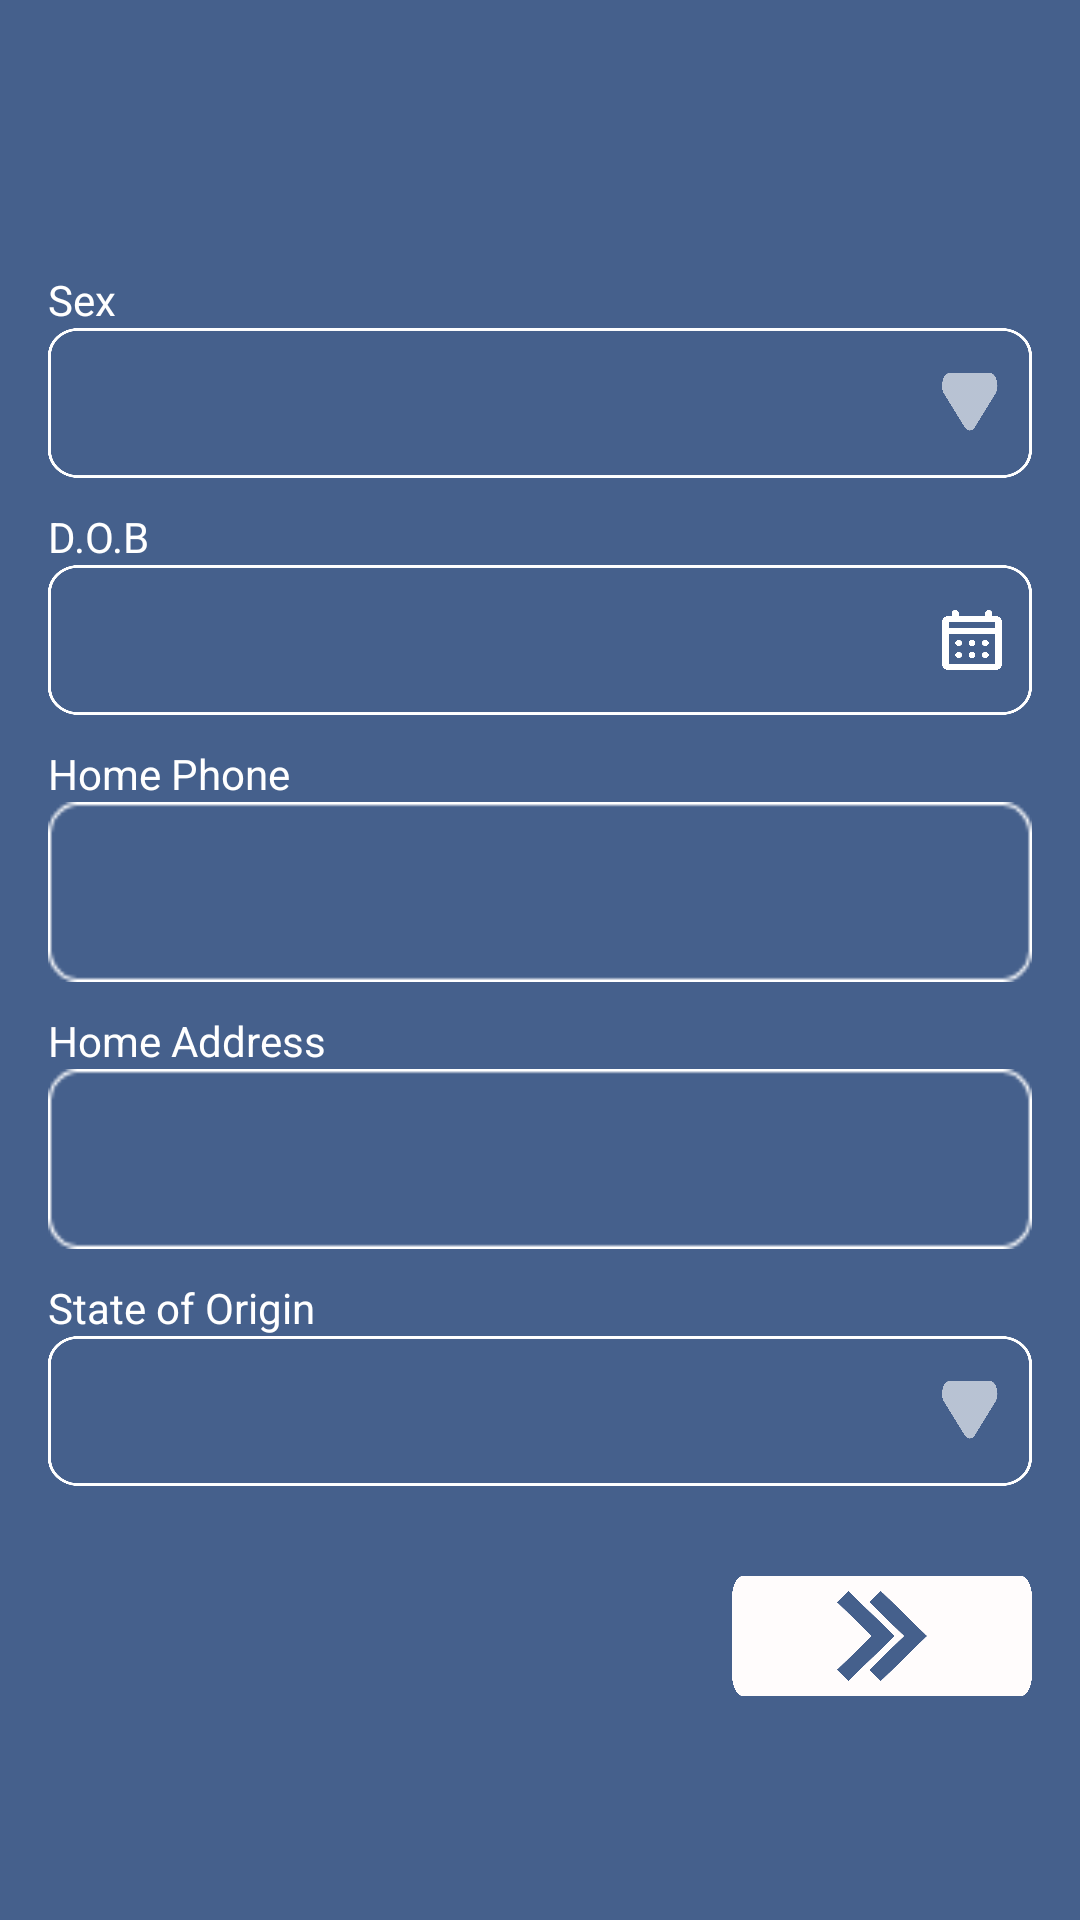

Point at icon controls on the screen. Image size 1080x1920, points as [x,y].
seven down arrow: [970,402], [970,1410]
